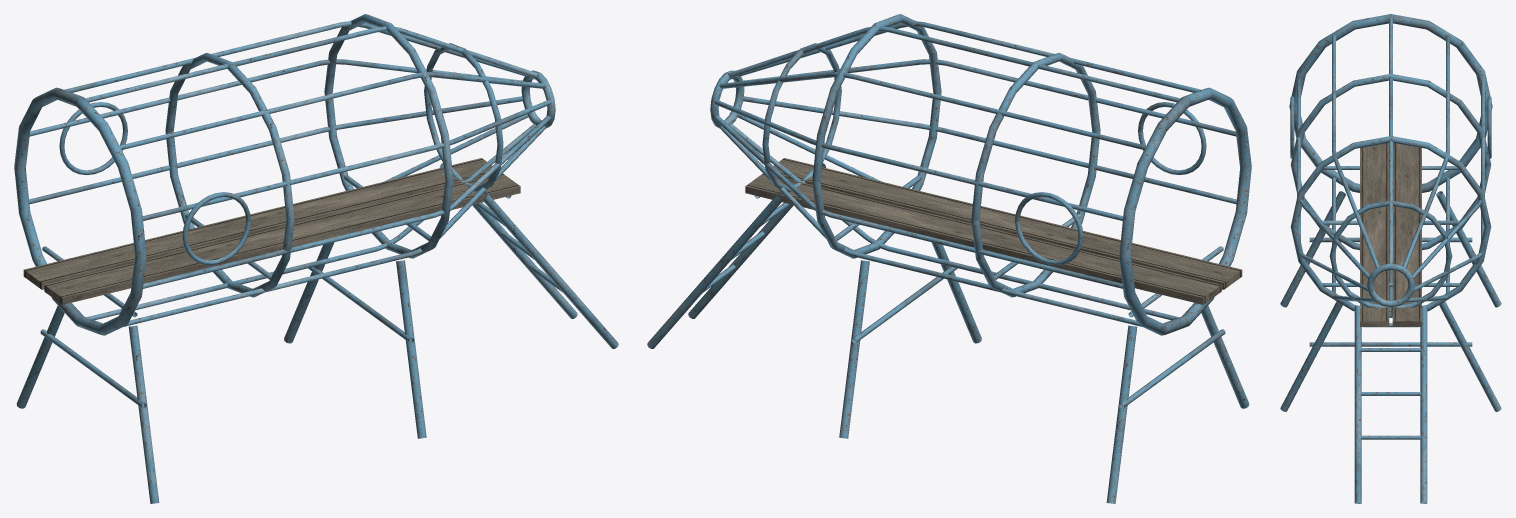
The model's file is playground_rocket_tunnel_lod1_web.glb.
The picture shows the model from 3 angles, left to right: view 1: azimuth 30°, elevation 25°; view 2: azimuth 150°, elevation 25°; view 3: azimuth 270°, elevation 25°; orthographic projection. The views are drawn at different scales.
Visible parts, largest first — view 1: RocketTunnel_Mesh; view 2: RocketTunnel_Mesh; view 3: RocketTunnel_Mesh.
Part boxes in pixels (box(x1,y1,x2,y2)): RocketTunnel_Mesh: box(14, 14, 618, 503); RocketTunnel_Mesh: box(647, 14, 1251, 503); RocketTunnel_Mesh: box(1280, 14, 1501, 503).
Bounding box in the file's own units: 2.97 × 1.85 × 1.28.
2 materials, 2 textured.
